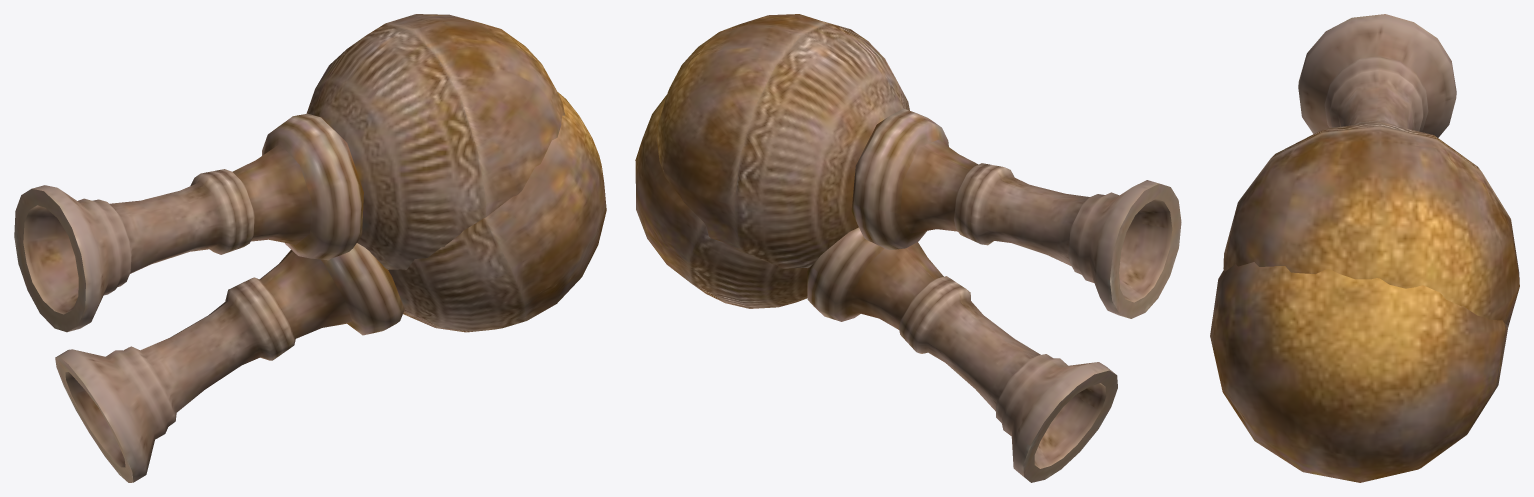
File: weapon-wp_a_1530.glb
The picture shows the model from 3 angles, left to right: view 1: azimuth 30°, elevation 25°; view 2: azimuth 150°, elevation 25°; view 3: azimuth 270°, elevation 25°; orthographic projection. The views are drawn at different scales.
Visible parts, largest first — view 1: wp_a_1530_mesh; view 2: wp_a_1530_mesh; view 3: wp_a_1530_mesh.
Boxes of the visible parts, x1,y1,x2,y2 form: wp_a_1530_mesh: [14, 14, 606, 482]; wp_a_1530_mesh: [635, 14, 1181, 482]; wp_a_1530_mesh: [1210, 14, 1519, 482].
Bounding box in the file's own units: 0.1071 × 0.0753 × 0.0504.
1 material, 1 textured.
